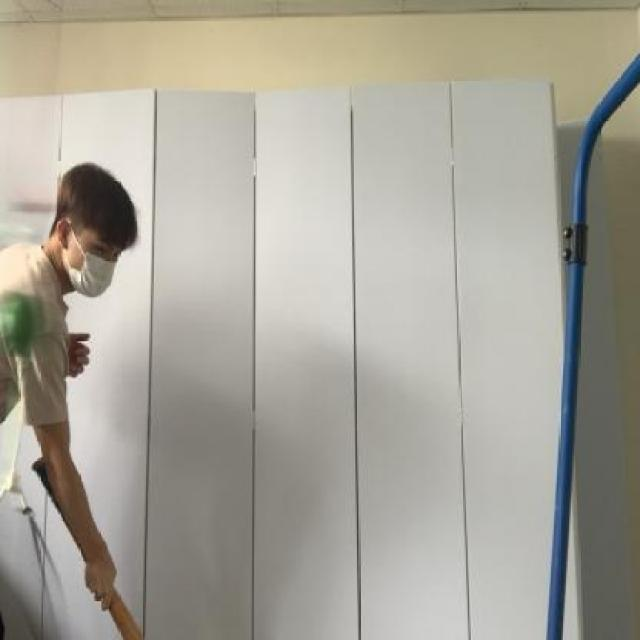baseball: (1, 282, 41, 364)
